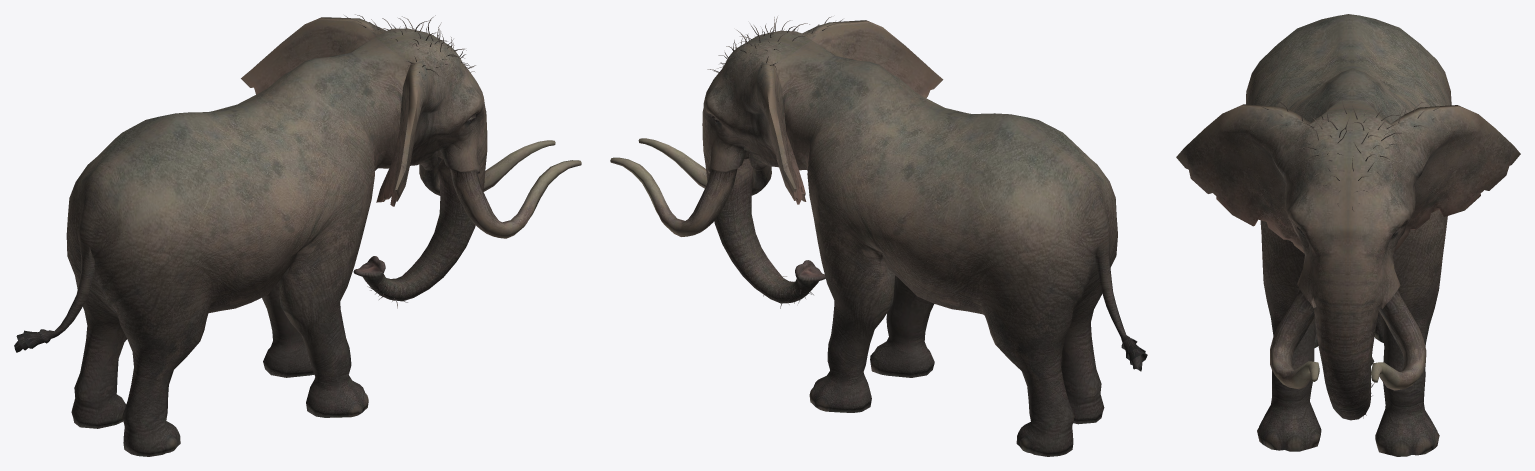
The model's file is elephant.fbx.
The picture shows the model from 3 angles, left to right: view 1: azimuth 30°, elevation 25°; view 2: azimuth 150°, elevation 25°; view 3: azimuth 270°, elevation 25°; orthographic projection. The views are drawn at different scales.
Visible parts, largest first — view 1: Elephant; view 2: Elephant; view 3: Elephant.
Part boxes in pixels (box(x1,y1,x2,y2)): Elephant: box(14, 14, 581, 456); Elephant: box(610, 16, 1147, 456); Elephant: box(1176, 14, 1520, 456).
Size of the model in its own units: 737 by 441 by 360.
